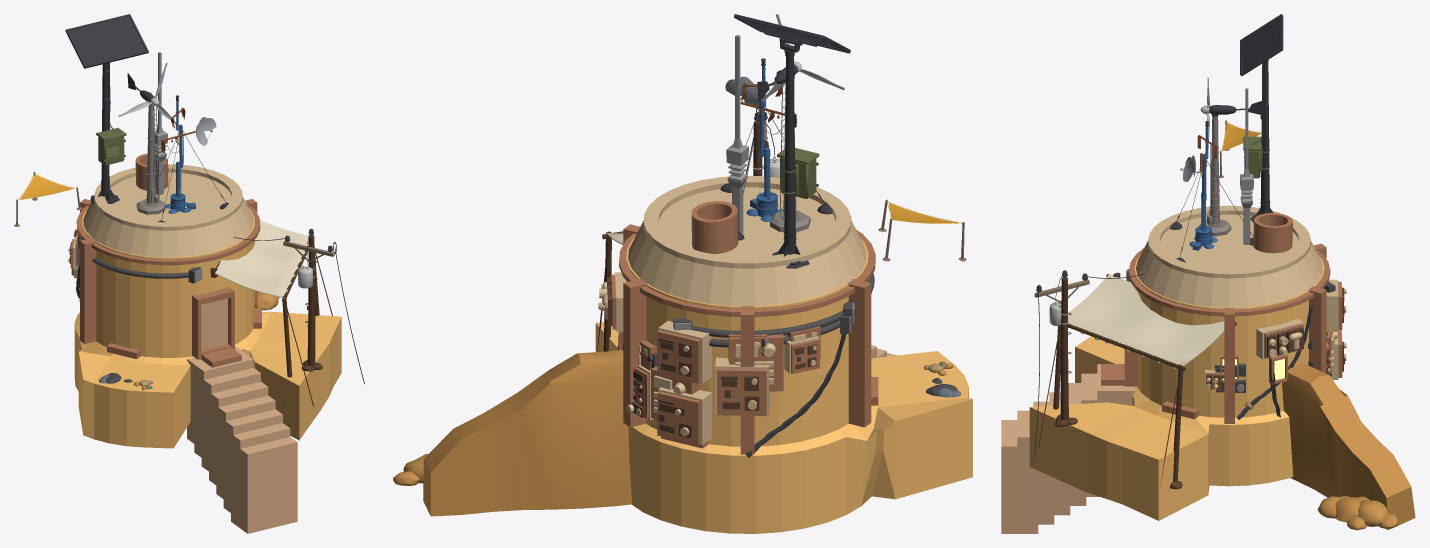
The model's file is nomad_building_b18.fbx.
3 views of the same model, side by side, from view 1: azimuth 30°, elevation 25°; view 2: azimuth 150°, elevation 25°; view 3: azimuth 270°, elevation 25° (orthographic). The views are drawn at different scales.
Parts seen in each view (by area): view 1: NomadBuilding_B18; view 2: NomadBuilding_B18; view 3: NomadBuilding_B18.
Boxes of the visible parts, bbox=[...] form: NomadBuilding_B18: bbox=[14, 14, 364, 533]; NomadBuilding_B18: bbox=[393, 14, 972, 533]; NomadBuilding_B18: bbox=[1001, 14, 1415, 533].
Bounding box in the file's own units: 2091 × 2534 × 2047.
